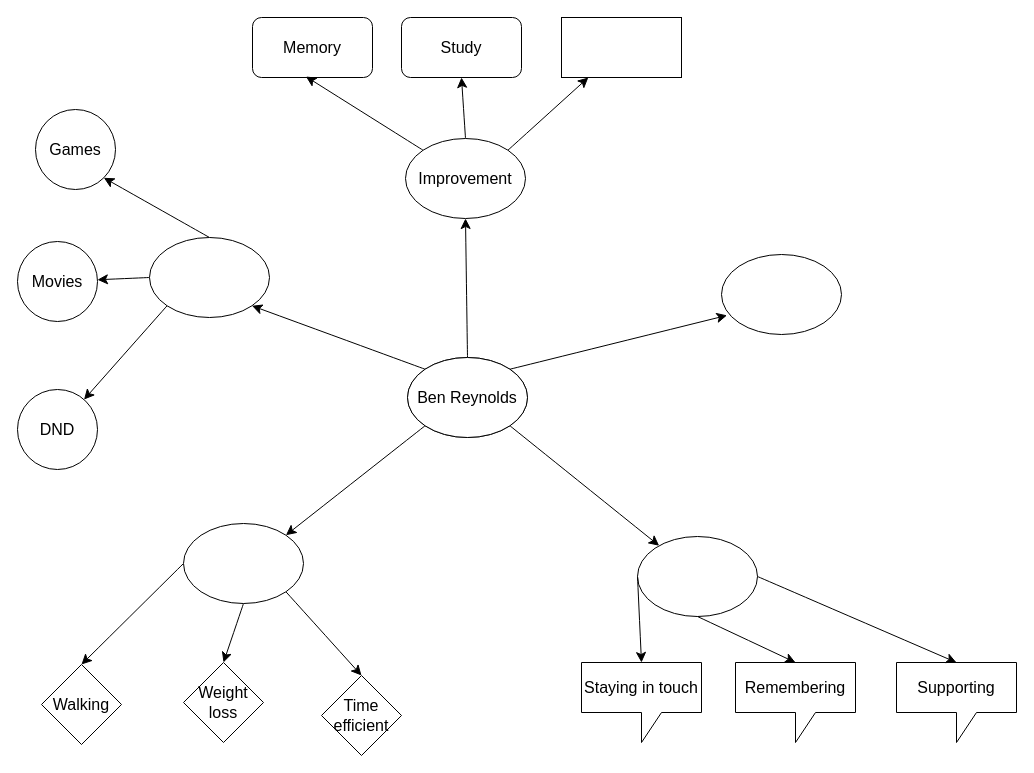
The diagram is 1034 pixels wide and 773 high, and some of its shapes have lost their labels. The shapes that lost their labels are listed below. From the top down, each one's box as (x1, y1, x2, y2) in pixels, then its label:
(560, 16, 682, 78): Learning
(148, 236, 270, 318): Fun
(720, 254, 842, 334): Psyche
(182, 522, 304, 604): Exercise
(636, 536, 758, 616): Friends
